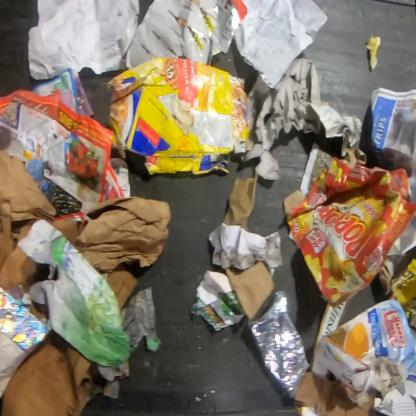cardboard: (281, 155, 415, 305), (106, 57, 254, 176), (0, 334, 132, 415), (316, 298, 415, 401), (307, 290, 358, 378), (0, 148, 58, 224), (293, 372, 381, 415), (0, 284, 52, 352), (0, 214, 41, 295), (224, 260, 276, 321), (220, 175, 260, 232), (388, 254, 415, 332), (100, 269, 139, 309), (29, 301, 49, 320)
soft_plastic: (247, 288, 312, 400), (120, 284, 163, 352)
